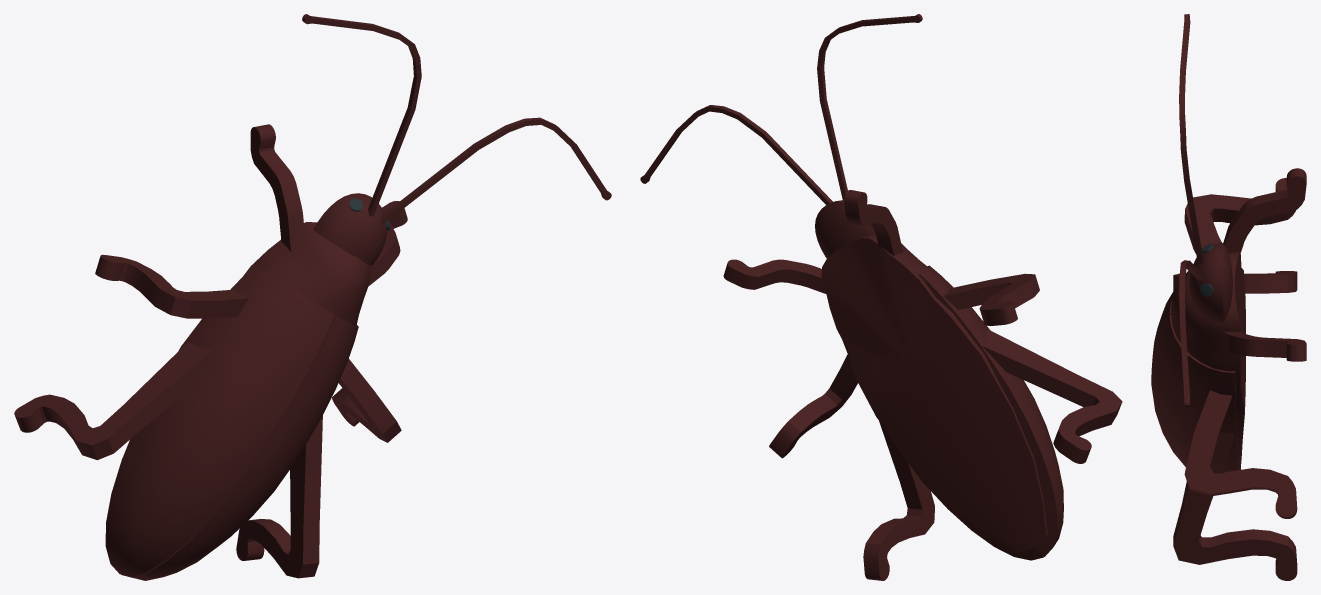
The model's file is cockroach.fbx.
3 views of the same model, side by side, from view 1: azimuth 30°, elevation 25°; view 2: azimuth 150°, elevation 25°; view 3: azimuth 270°, elevation 25° (orthographic). The views are drawn at different scales.
Visible parts, largest first — view 1: Sphere.387, Cube.152, Cube.150, Cube.151, Cube.153; view 2: Cube.150, Cube.152, Sphere.387, Cube.151, Cube.153; view 3: Cube.152, Sphere.387, Cube.150, Cube.151, Cube.153, Circle.2003.
Part boxes in pixels (box(x1,y1,x2,y2)): Sphere.387: box(105, 263, 358, 580); Cube.152: box(14, 124, 407, 578); Cube.150: box(178, 222, 370, 350); Cube.151: box(302, 14, 611, 224); Cube.153: box(313, 193, 386, 265); Cube.150: box(821, 235, 1047, 552); Cube.152: box(723, 190, 1122, 580); Sphere.387: box(842, 265, 1063, 560); Cube.151: box(640, 14, 922, 204); Cube.153: box(815, 200, 875, 258); Cube.152: box(1173, 168, 1306, 580); Sphere.387: box(1151, 291, 1237, 473); Cube.150: box(1171, 251, 1245, 470); Cube.151: box(1179, 14, 1203, 407); Cube.153: box(1189, 243, 1232, 322); Circle.2003: box(1200, 243, 1213, 296).
Bounding box in the file's own units: 225 × 230 × 57.22.
Materials: 1 (1 with a texture image).
